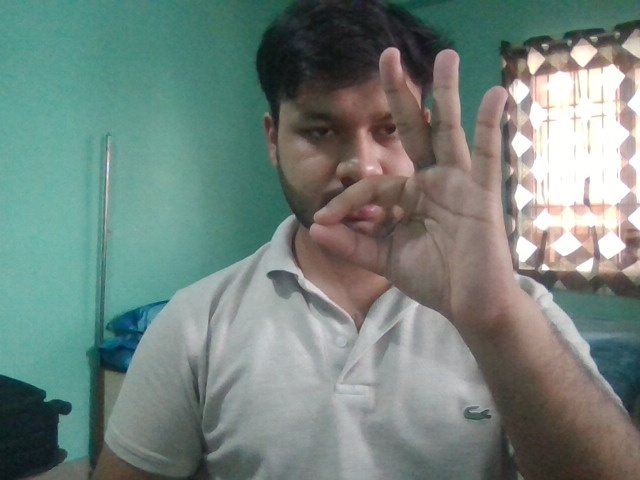Ok: (302, 40, 531, 339)
